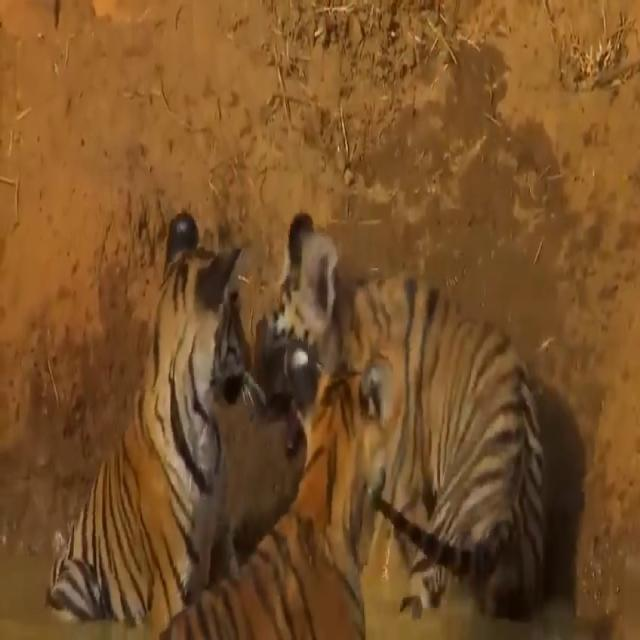tiger: (42, 208, 263, 628)
